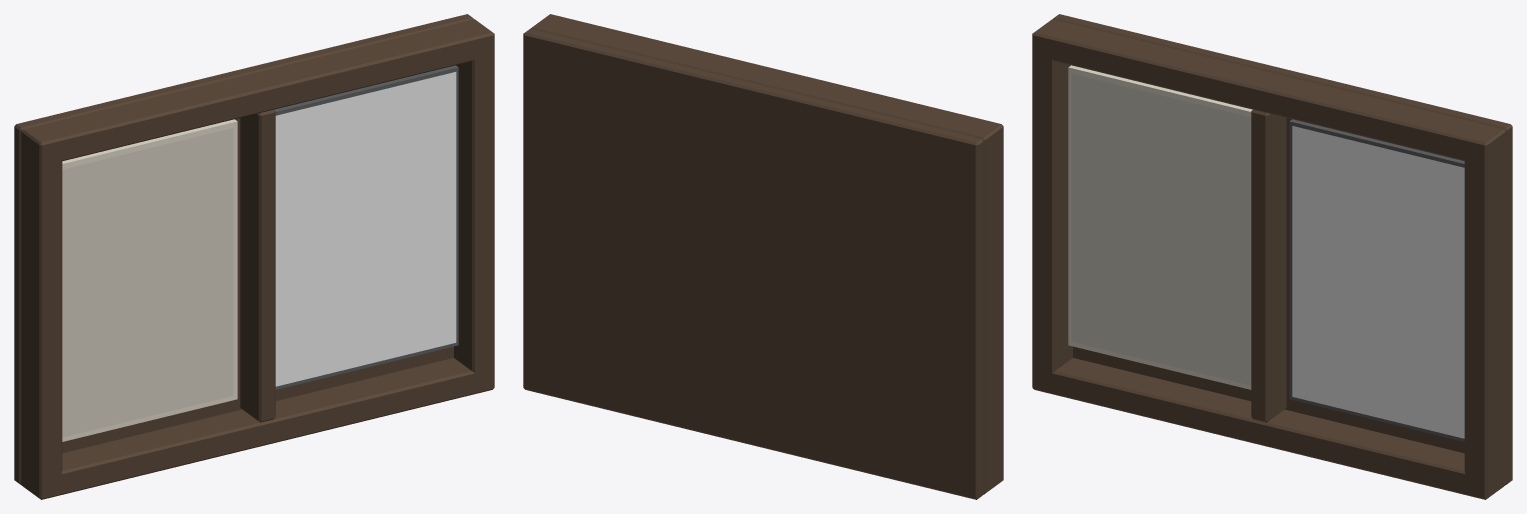
Rendered from Clue_WallBoard.fbx.
The picture shows the model from 3 angles, left to right: view 1: azimuth 30°, elevation 25°; view 2: azimuth 150°, elevation 25°; view 3: azimuth 330°, elevation 25°; orthographic projection.
Parts seen in each view (by area): view 1: Clue_WallBoard; view 2: Clue_WallBoard; view 3: Clue_WallBoard.
Part boxes in pixels (<box>): Clue_WallBoard: <box>14,14,494,499</box>; Clue_WallBoard: <box>523,14,1003,499</box>; Clue_WallBoard: <box>1032,14,1512,499</box>.
Size of the model in its own units: 96 by 72 by 10.
